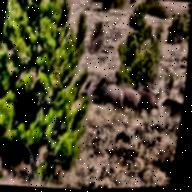boar: (87, 66, 127, 127)
